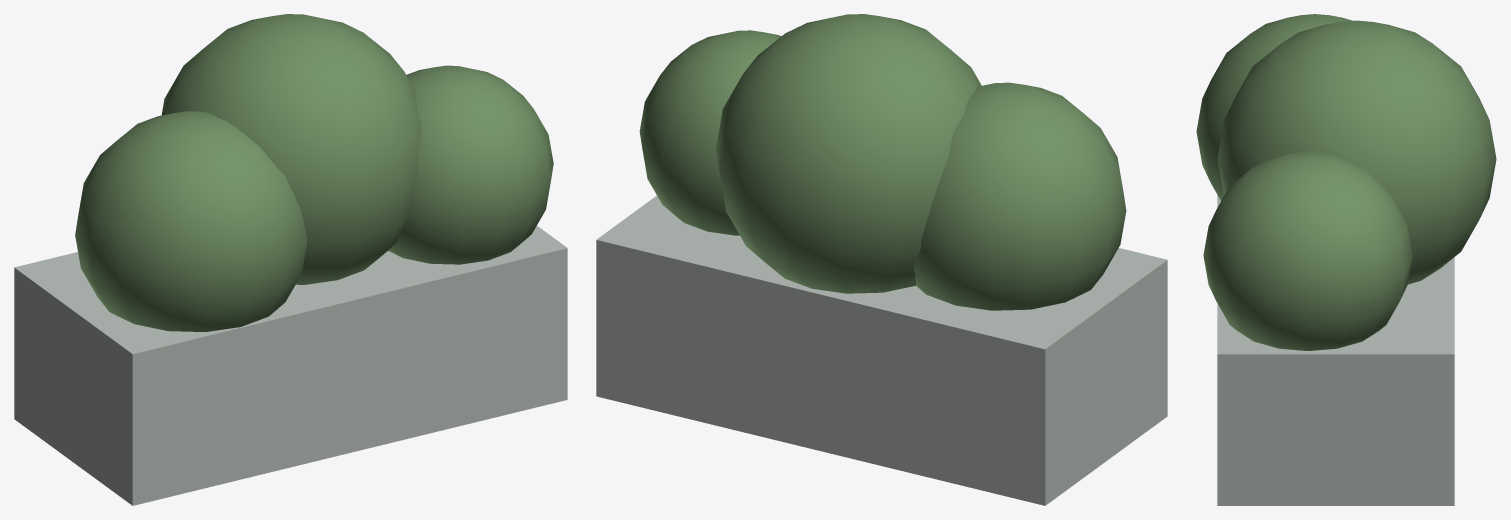
Rendered from component-planter.meshopt.glb.
The picture shows the model from 3 angles, left to right: view 1: azimuth 30°, elevation 25°; view 2: azimuth 150°, elevation 25°; view 3: azimuth 270°, elevation 25°; orthographic projection. The views are drawn at different scales.
Parts seen in each view (by area): view 1: planter_box, plant_left, plant_mid, plant_right; view 2: planter_box, plant_mid, plant_left, plant_right; view 3: planter_box, plant_mid, plant_right, plant_left.
Part boxes in pixels (bbox=[...]): planter_box: bbox=[14, 226, 567, 505]; plant_left: bbox=[75, 111, 307, 331]; plant_mid: bbox=[161, 14, 421, 284]; plant_right: bbox=[388, 65, 553, 264]; planter_box: bbox=[596, 195, 1167, 505]; plant_mid: bbox=[716, 14, 981, 293]; plant_left: bbox=[913, 82, 1126, 310]; plant_right: bbox=[639, 30, 781, 235]; planter_box: bbox=[1217, 195, 1454, 505]; plant_mid: bbox=[1217, 20, 1496, 284]; plant_right: bbox=[1203, 151, 1412, 350]; plant_left: bbox=[1196, 14, 1352, 200].
Size of the model in its own units: 0.75 by 0.59 by 0.43.
